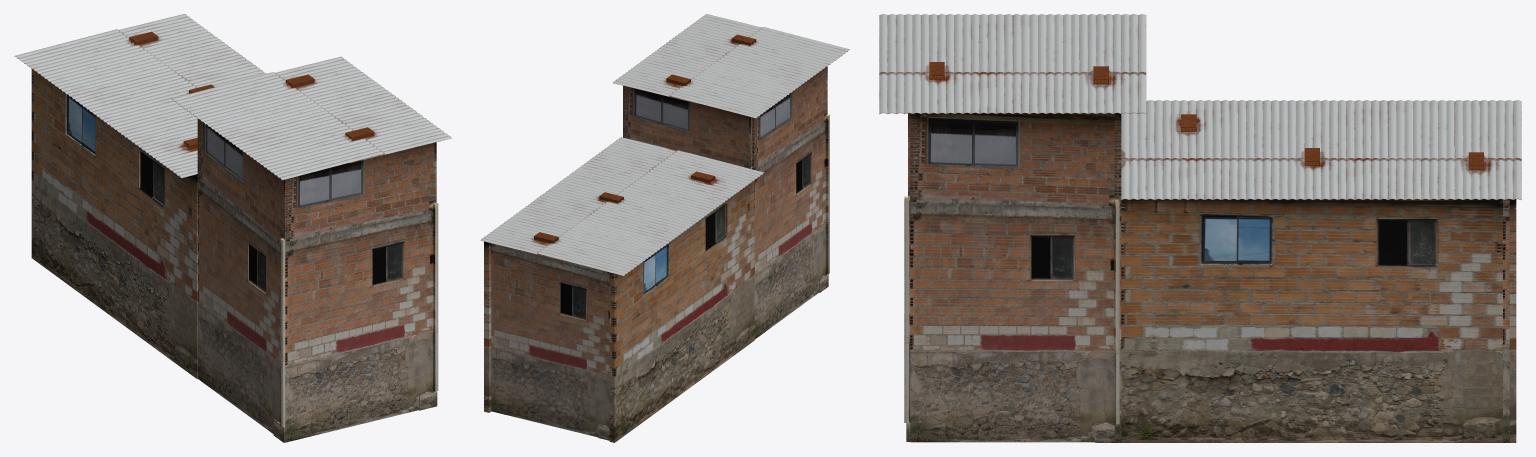
Rendered from casa_izquierda_12.fbx.
3 renders of one model, left to right at view 1: azimuth 30°, elevation 25°; view 2: azimuth 150°, elevation 25°; view 3: azimuth 270°, elevation 25°, orthographic. The views are drawn at different scales.
Visible parts, largest first — view 1: casa_izquierda_12B.002, casa_izquierda_12A.001, casa_izquierda_12B.001, Techo_12A.001, Techo_12A; view 2: casa_izquierda_12A.001, Techo_12A, casa_izquierda_12B.005, casa_izquierda_12B.001, Techo_12A.001, casa_izquierda_12B.003, casa_izquierda_12A.002; view 3: casa_izquierda_12A.002, casa_izquierda_12B.004, Techo_12A, Techo_12A.001, casa_izquierda_12B.002, casa_izquierda_12B.003, casa_izquierda_12B.005.
Boxes of the visible parts, left/top/right/bottom form: casa_izquierda_12B.002: left=285, top=142, right=438, bottom=442; casa_izquierda_12A.001: left=31, top=69, right=197, bottom=379; casa_izquierda_12B.001: left=197, top=119, right=285, bottom=442; Techo_12A.001: left=171, top=56, right=451, bottom=180; Techo_12A: left=14, top=14, right=266, bottom=178; casa_izquierda_12A.001: left=609, top=168, right=754, bottom=442; Techo_12A: left=480, top=137, right=764, bottom=275; casa_izquierda_12B.005: left=491, top=243, right=609, bottom=440; casa_izquierda_12B.001: left=752, top=66, right=829, bottom=339; Techo_12A.001: left=613, top=14, right=849, bottom=118; casa_izquierda_12B.003: left=623, top=85, right=752, bottom=168; casa_izquierda_12A.002: left=484, top=241, right=491, bottom=412; casa_izquierda_12A.002: left=1121, top=199, right=1516, bottom=442; casa_izquierda_12B.004: left=910, top=113, right=1119, bottom=442; Techo_12A: left=1121, top=100, right=1521, bottom=200; Techo_12A.001: left=879, top=14, right=1146, bottom=113; casa_izquierda_12B.002: left=904, top=113, right=910, bottom=441; casa_izquierda_12B.003: left=1114, top=113, right=1121, bottom=442; casa_izquierda_12B.005: left=1503, top=199, right=1509, bottom=442.
Bounding box in the file's own units: 545 × 861 × 1488.
